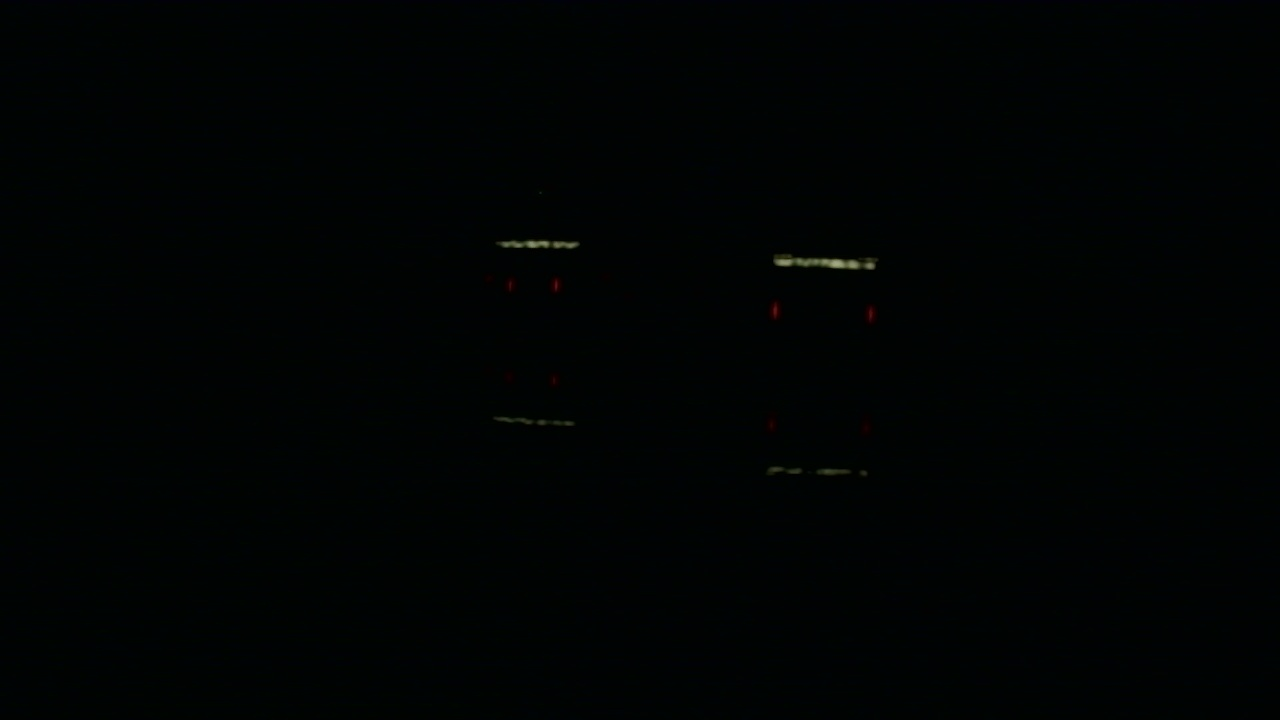lamp: (867, 301, 874, 324), (769, 300, 778, 317), (554, 277, 559, 288), (508, 276, 512, 287)
pair1: (508, 278, 558, 288)
pair2: (770, 301, 875, 326)
